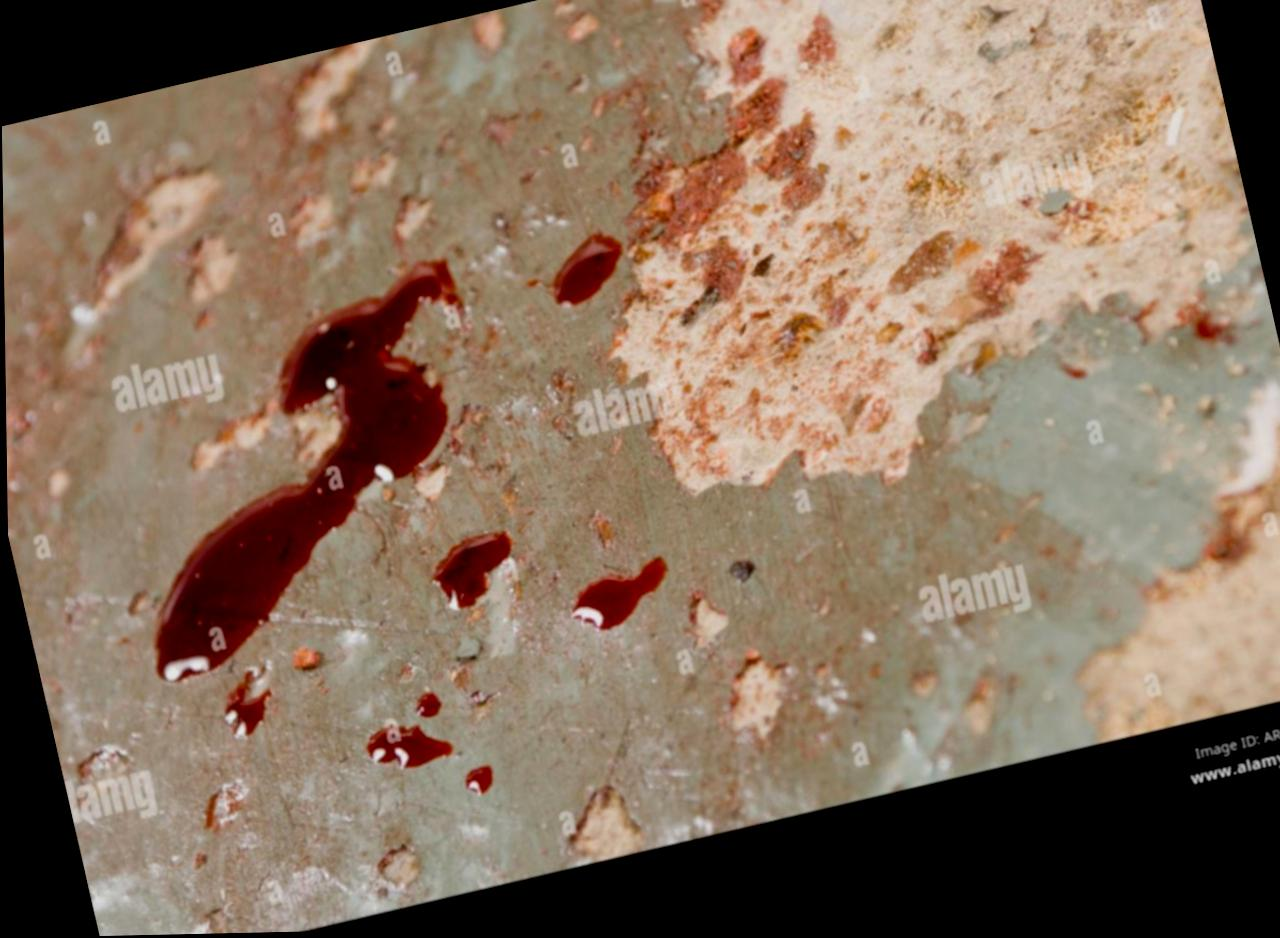Fire: (151, 261, 463, 683), (566, 560, 666, 633), (430, 533, 509, 610), (545, 235, 620, 308), (363, 725, 449, 770), (222, 670, 270, 734), (461, 766, 490, 795), (412, 694, 438, 718)
